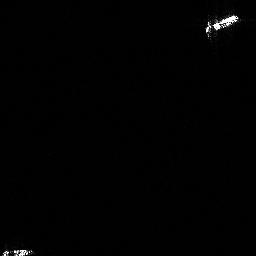ship: (202, 12, 240, 40), (1, 245, 36, 256)
